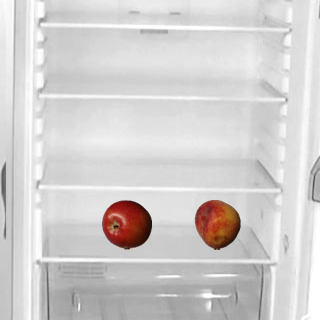Apple Braeburn: (101, 199, 151, 249)
Peach: (192, 199, 242, 249)
